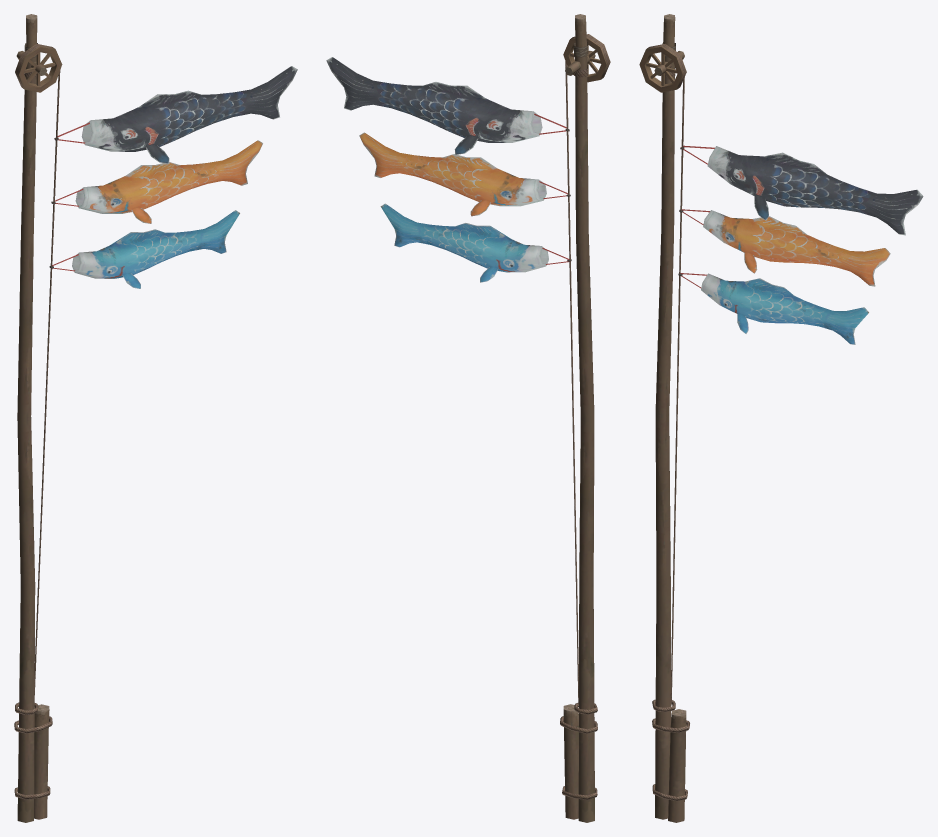
File: Homeworld_Exterior_Dq_Decoration_Carp_01_Vo.fbx
The picture shows the model from 3 angles, left to right: view 1: azimuth 30°, elevation 25°; view 2: azimuth 150°, elevation 25°; view 3: azimuth 330°, elevation 25°; orthographic projection.
Parts seen in each view (by area): view 1: Area_Dq_Ecloth_Common_Carp_01_02_Vo, Area_Dq_Ecloth_Common_Carp_01_01_Vo; view 2: Area_Dq_Ecloth_Common_Carp_01_02_Vo, Area_Dq_Ecloth_Common_Carp_01_01_Vo; view 3: Area_Dq_Ecloth_Common_Carp_01_02_Vo, Area_Dq_Ecloth_Common_Carp_01_01_Vo.
Boxes of the visible parts, x1,y1,x2,y2 form: Area_Dq_Ecloth_Common_Carp_01_02_Vo: (52, 66, 297, 288); Area_Dq_Ecloth_Common_Carp_01_01_Vo: (14, 14, 62, 822); Area_Dq_Ecloth_Common_Carp_01_02_Vo: (326, 57, 570, 282); Area_Dq_Ecloth_Common_Carp_01_01_Vo: (560, 14, 610, 822); Area_Dq_Ecloth_Common_Carp_01_02_Vo: (680, 145, 923, 344); Area_Dq_Ecloth_Common_Carp_01_01_Vo: (639, 14, 689, 822).
Size of the model in its own units: 4.42 by 12.01 by 0.8664.
